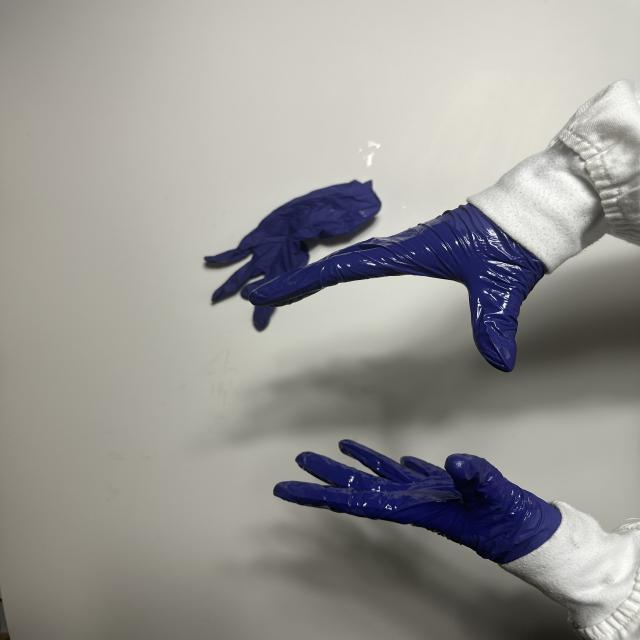gloves_contaminated: (250, 205, 545, 372), (274, 440, 561, 564)
